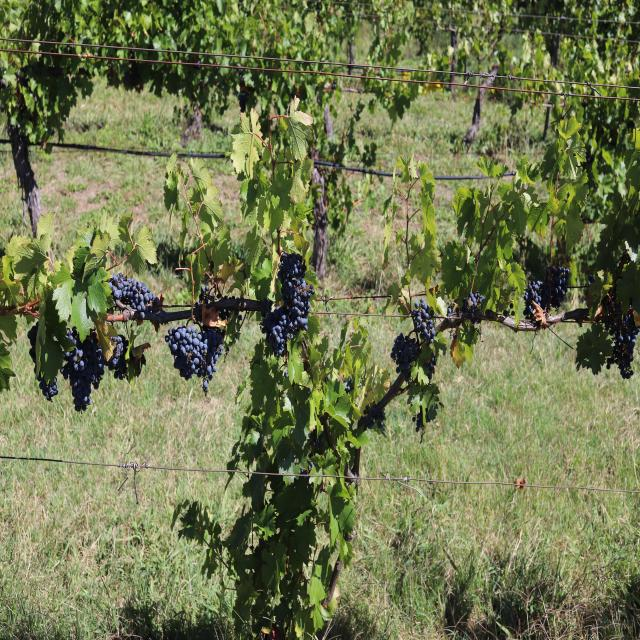grapes: (261, 253, 314, 356), (165, 325, 223, 395), (390, 299, 436, 381), (61, 327, 105, 411), (605, 296, 640, 378), (27, 322, 58, 401), (523, 266, 569, 318), (109, 273, 159, 318), (390, 333, 418, 381), (541, 267, 569, 309), (412, 299, 436, 343), (106, 335, 129, 380), (358, 404, 385, 435), (523, 281, 542, 318), (462, 292, 484, 323)
